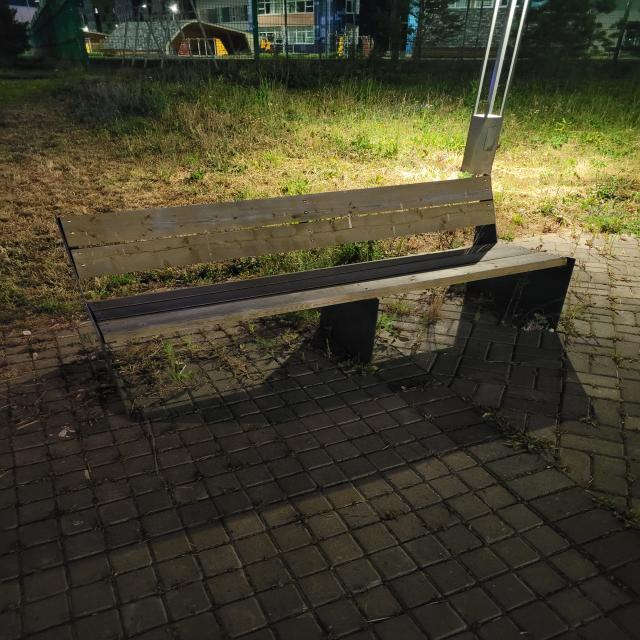Bench: (58, 176, 575, 412)
